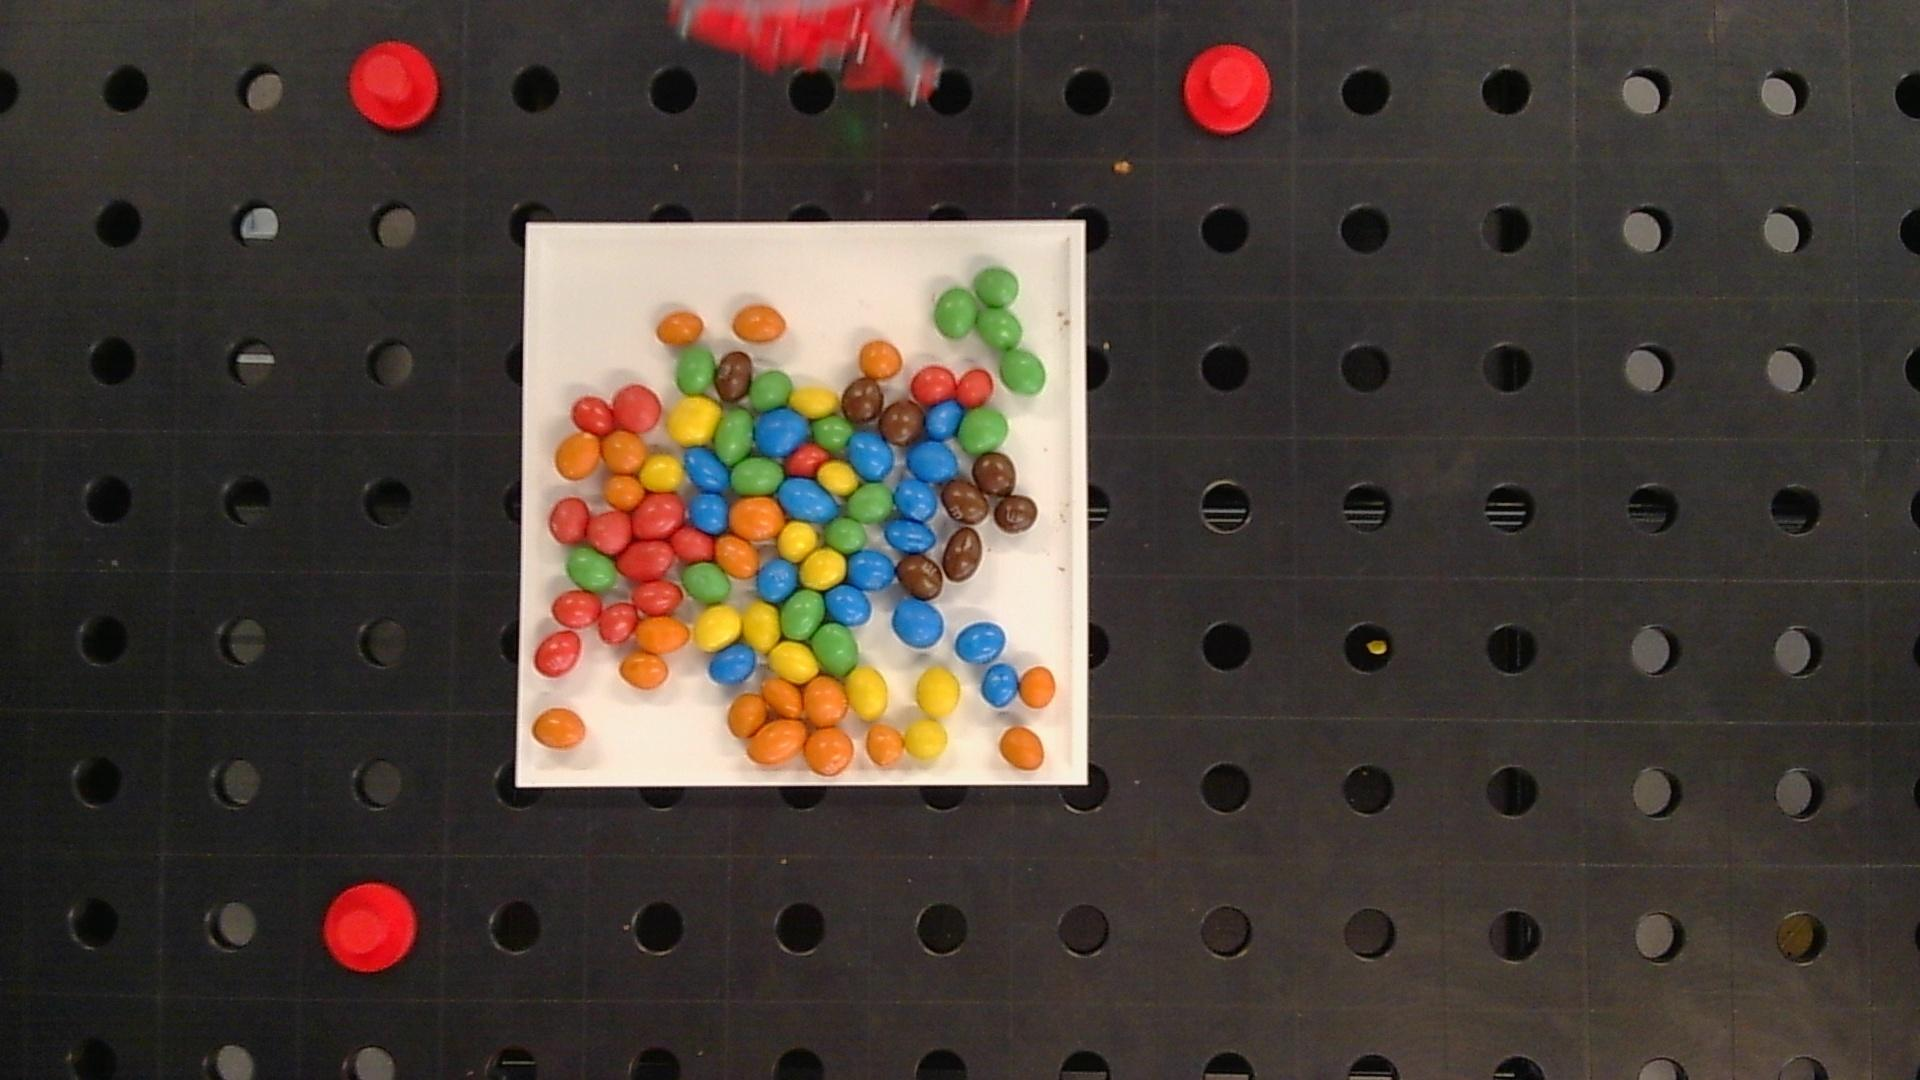blue: (779, 477, 839, 521), (893, 597, 944, 647), (756, 409, 810, 455), (907, 440, 959, 483), (848, 433, 893, 480), (956, 621, 1005, 663), (894, 477, 939, 521), (848, 550, 895, 591), (708, 645, 757, 683), (684, 448, 728, 491), (825, 585, 872, 625), (757, 559, 798, 601), (885, 520, 935, 554), (981, 665, 1019, 707), (690, 492, 728, 531), (926, 401, 963, 439)
brown: (942, 527, 982, 582), (942, 479, 989, 524), (898, 555, 943, 600), (881, 401, 923, 444), (841, 378, 884, 422), (973, 454, 1015, 496), (716, 352, 752, 401), (994, 496, 1038, 533)
green: (814, 624, 858, 674), (566, 549, 617, 591), (1000, 349, 1047, 394), (934, 289, 977, 338), (781, 591, 824, 640), (963, 409, 1009, 452), (682, 563, 732, 603), (715, 409, 752, 462), (732, 456, 783, 493), (978, 307, 1023, 349), (973, 268, 1019, 307), (676, 347, 715, 394), (848, 484, 893, 522), (750, 371, 791, 410), (824, 517, 866, 551), (811, 417, 853, 450)
orange: (748, 719, 806, 765), (804, 728, 855, 774), (731, 497, 783, 539), (531, 708, 585, 748), (555, 434, 601, 479), (804, 676, 847, 725), (1000, 727, 1044, 770), (715, 534, 758, 578), (601, 431, 646, 472), (733, 306, 786, 340), (637, 617, 690, 651), (620, 653, 669, 688), (865, 724, 905, 766), (728, 694, 767, 736), (858, 340, 902, 378), (657, 311, 703, 344), (762, 678, 802, 716), (1019, 666, 1056, 707), (605, 475, 644, 509)
red: (632, 495, 684, 538), (618, 541, 673, 580), (613, 385, 661, 430), (534, 632, 582, 675), (549, 497, 589, 542), (588, 510, 630, 553), (910, 365, 957, 402), (553, 591, 600, 626), (633, 580, 682, 615), (572, 396, 613, 434), (597, 604, 637, 642), (670, 526, 713, 559), (785, 444, 829, 475), (957, 369, 993, 405)
yellow: (667, 397, 720, 446), (915, 667, 960, 716), (847, 667, 887, 720), (695, 607, 741, 650), (800, 549, 847, 589), (771, 642, 819, 682), (742, 603, 779, 650), (903, 720, 947, 760), (778, 522, 819, 559), (641, 454, 683, 489), (819, 462, 858, 496), (791, 388, 837, 415)
